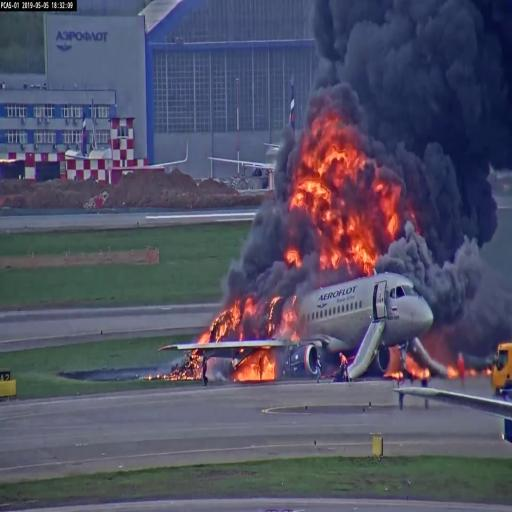fire: (302, 130, 363, 256), (215, 310, 244, 340), (243, 361, 272, 383)
smoke: (361, 0, 503, 219)
